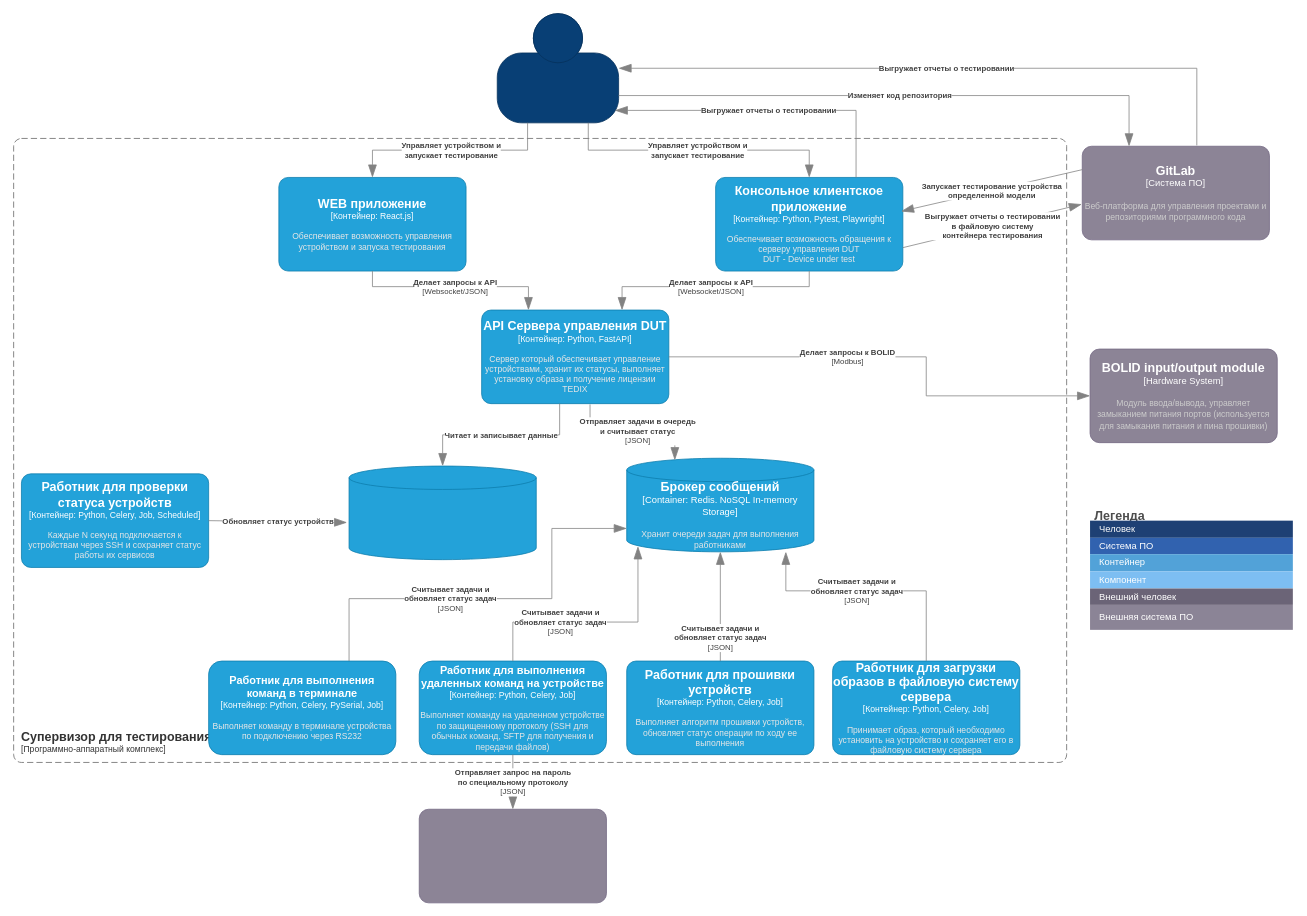
This 1307x916 diagram has some shape labels left out. The shapes that lost their labels are listed below. From the top down, each one's centre as x and y in pixels, then its label:
point 557,68: Разработчик [Человек] Разработчик из команды TEDIX "Форт Телеком"
point 442,512: БД [Container: PostgreSQL Database] Хранит информацию о тестируемых устройствах
point 512,855: Сервер подписей [Система ПО] Выдает пароли от устройств
